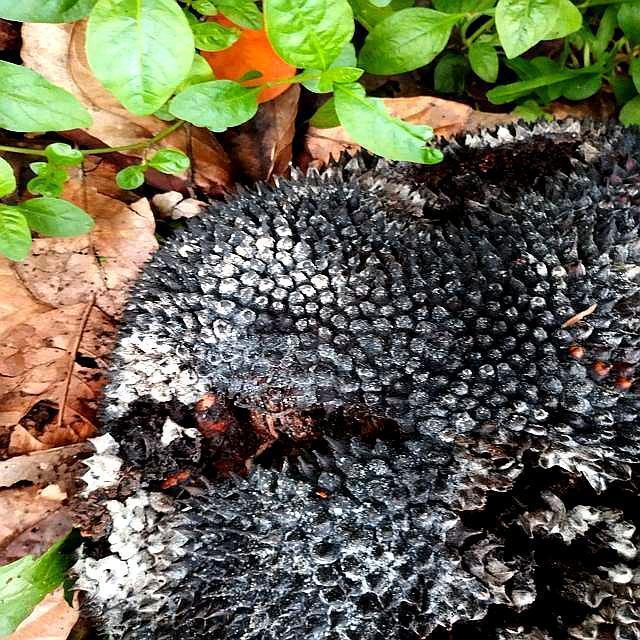Biodegradable: (61, 133, 640, 640)
